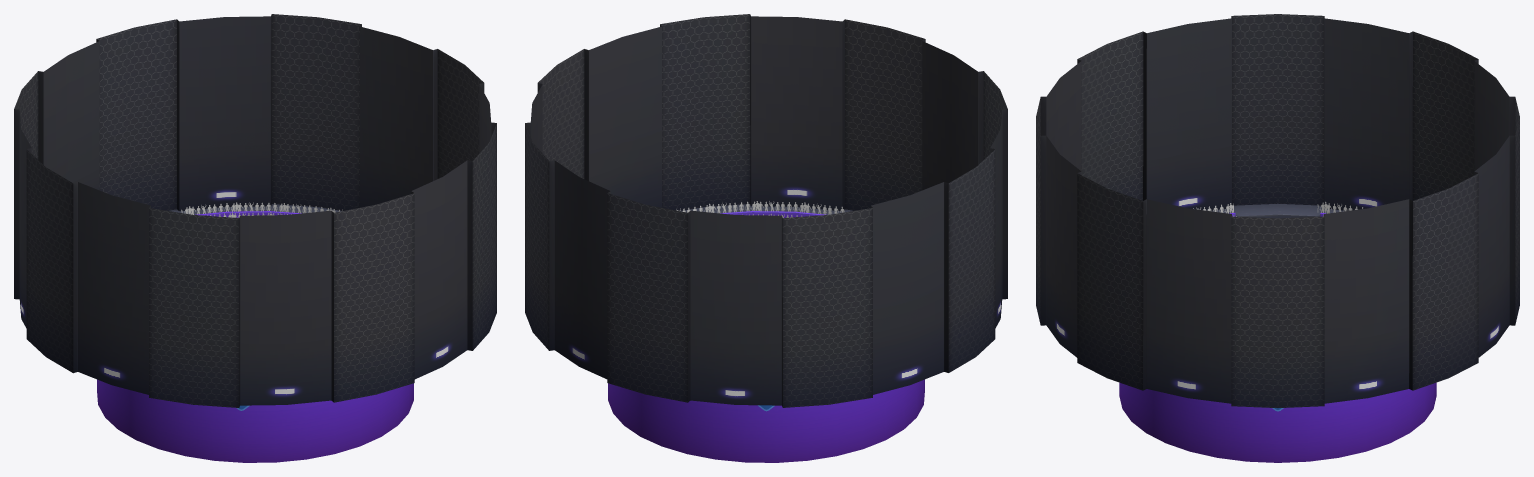
File: circle_arena.fbx
3 renders of one model, left to right at view 1: azimuth 30°, elevation 25°; view 2: azimuth 150°, elevation 25°; view 3: azimuth 270°, elevation 25°, orthographic.
Parts seen in each view (by area): view 1: Cylinder.001, Cylinder.077; view 2: Cylinder.001, Cylinder.078; view 3: Cylinder.001.
Part boxes in pixels (x1,y1,x2,y2): Cylinder.001: (14,14,496,462); Cylinder.077: (181,202,342,214); Cylinder.001: (525,14,1007,462); Cylinder.078: (676,201,844,214); Cylinder.001: (1036,14,1519,462).
Bounding box in the file's own units: 33965 × 21680 × 33976.
